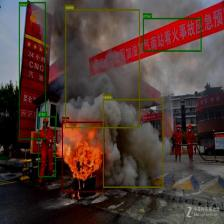fire: (62, 122, 104, 192)
smoke: (65, 9, 140, 128), (103, 98, 163, 188)
